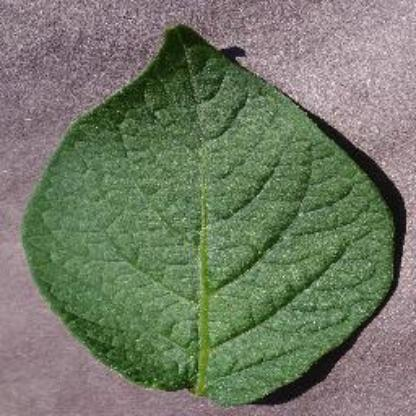Healthy-plant: (23, 18, 403, 404)
